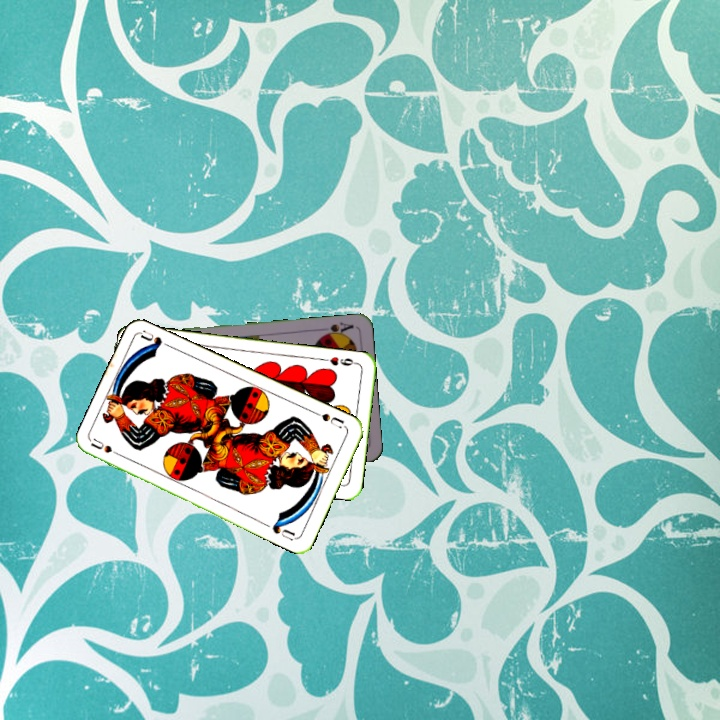H9: (320, 353, 360, 369)
SA: (317, 318, 356, 340)
SU: (88, 435, 127, 461), (310, 408, 349, 431)
